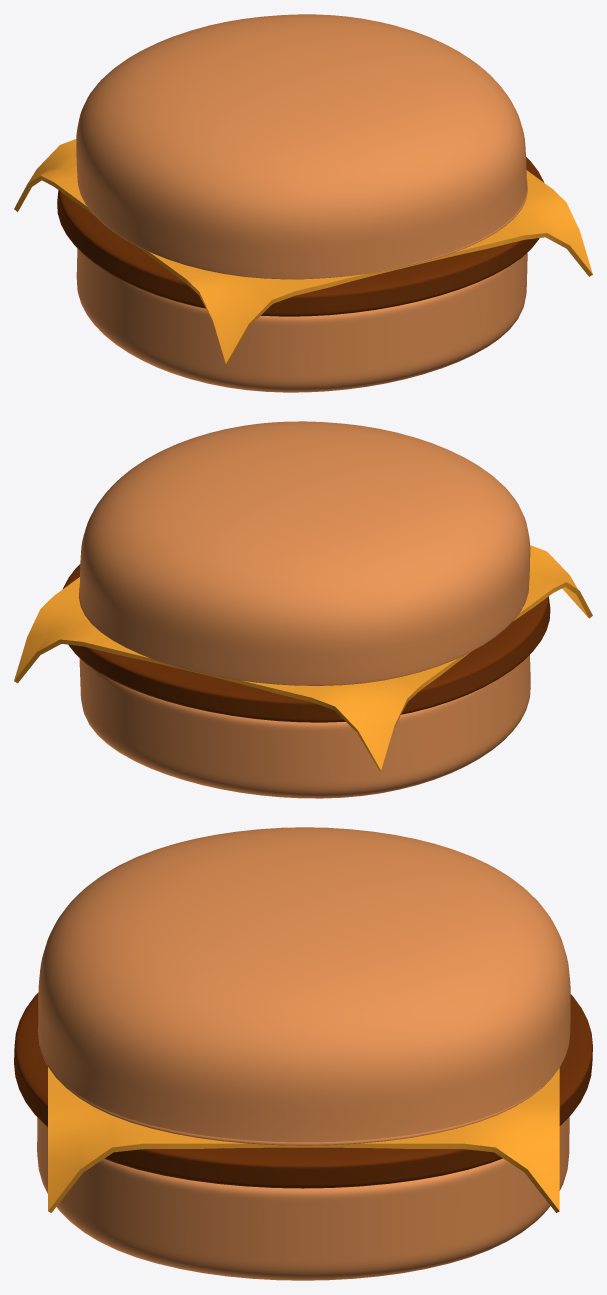
File: hamburger.glb
3 renders of one model, top to bottom at view 1: azimuth 30°, elevation 25°; view 2: azimuth 150°, elevation 25°; view 3: azimuth 270°, elevation 25°, orthographic. The views are drawn at different scales.
Visible parts, largest first — view 1: Cube.002, Cube, Cube.001, Plane; view 2: Cube.002, Cube, Cube.001, Plane; view 3: Cube.002, Cube, Cube.001, Plane.
Boxes of the visible parts, <box> form: Cube.002: <box>76,14,527,279</box>; Cube: <box>76,248,527,392</box>; Cube.001: <box>57,157,544,316</box>; Plane: <box>14,139,592,364</box>; Cube.002: <box>79,421,530,685</box>; Cube: <box>79,655,530,798</box>; Cube.001: <box>63,564,550,722</box>; Plane: <box>14,545,592,771</box>; Cube.002: <box>38,827,570,1145</box>; Cube: <box>37,1117,569,1280</box>; Cube.001: <box>14,993,592,1188</box>; Plane: <box>48,1067,559,1212</box>.
Size of the model in its own units: 9.67 by 5.56 by 9.64.
